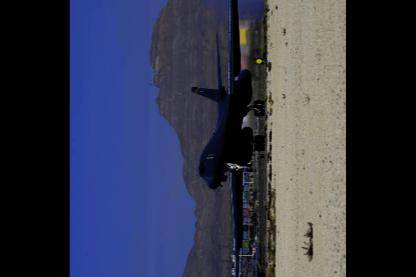AV8B: (190, 0, 265, 275)
F117: (245, 240, 264, 275)
